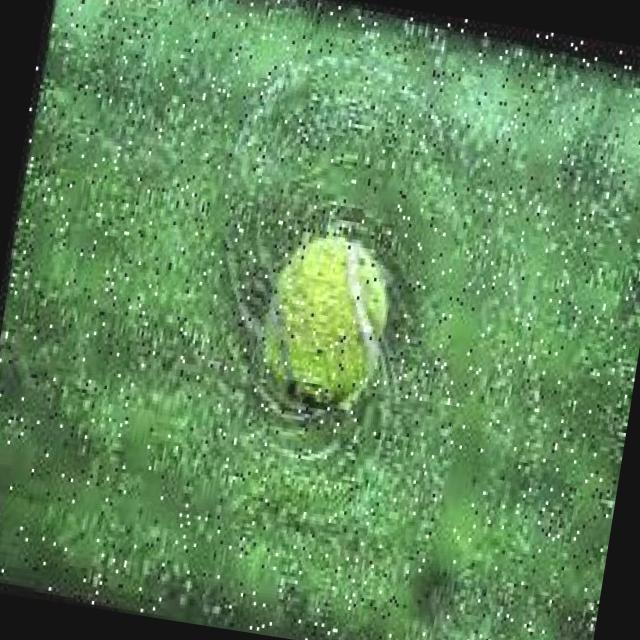Tennis Ball: (228, 209, 402, 429)
